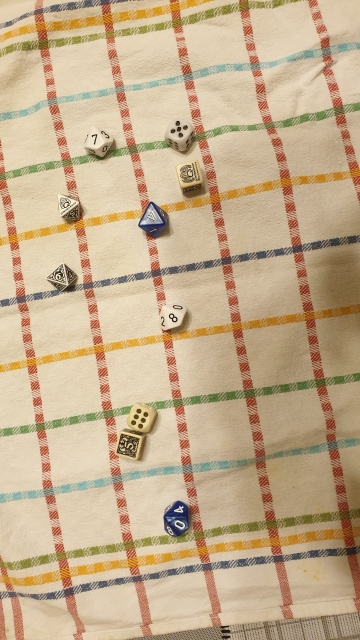d10-10: (154, 500, 200, 539)
d10-4: (135, 199, 174, 239)
d10-7: (80, 118, 116, 169)
d10-8: (154, 298, 188, 338)
d6-5: (162, 117, 198, 152)
d6-6: (121, 399, 160, 435)
d6p-5: (114, 428, 144, 462)
d6p-6: (172, 159, 206, 193)
d8p-6: (38, 259, 81, 296)
d8p-8: (53, 192, 85, 227)
